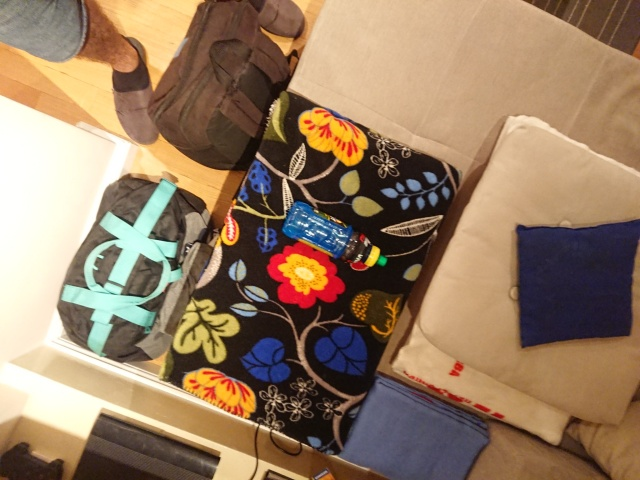Vindi Iso Sport Forest Strawberries 500mL: (280, 199, 390, 269)
